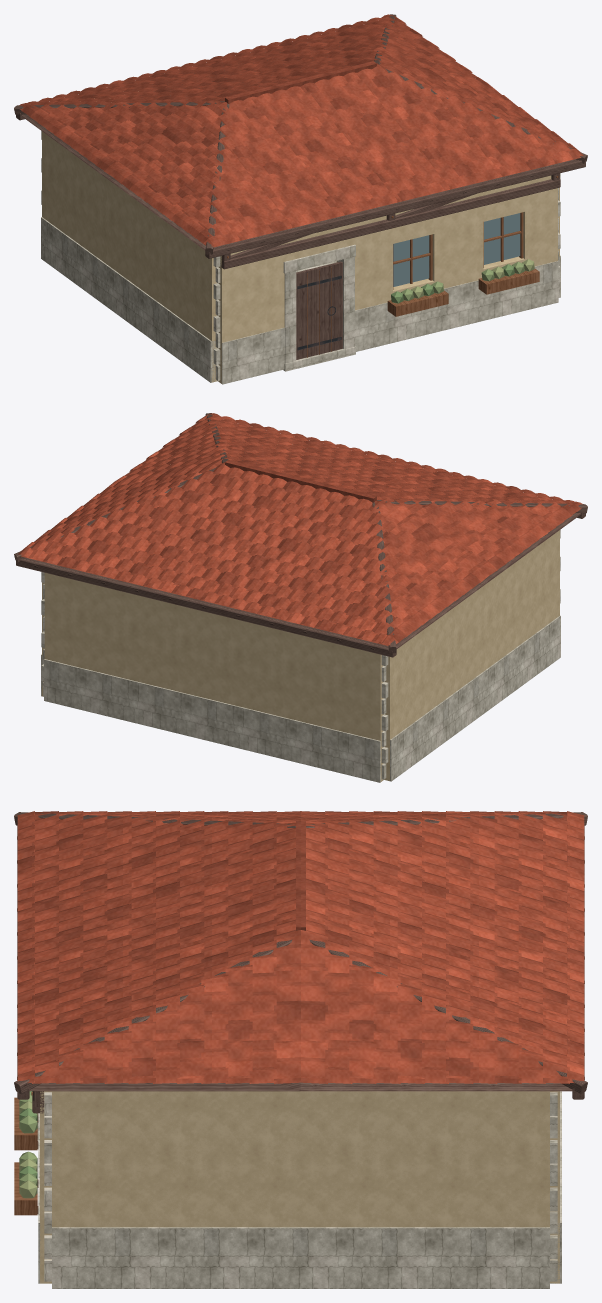
The model's file is B25_vivienda.glb.
The picture shows the model from 3 angles, top to bottom: view 1: azimuth 30°, elevation 25°; view 2: azimuth 150°, elevation 25°; view 3: azimuth 270°, elevation 25°; orthographic projection. The views are drawn at different scales.
Parts seen in each view (by area): view 1: AUR034_B25_clay_tiles, AUR034_B25_lower_masonry, AUR034_B25_projecting_stone_plinth, AUR034_B25_fascia-1, AUR034_B25_entry_leaf0, AUR034_B25_sill, AUR034_B25_window0_glazing, AUR034_B25_window1_glazing, AUR034_B25_roof_sheathing, AUR034_B25_entry_pier-1, AUR034_B25_entry_pier1, AUR034_B25_ridge (+7 smaller); view 2: AUR034_B25_clay_tiles, AUR034_B25_lower_masonry, AUR034_B25_projecting_stone_plinth, AUR034_B25_fascia1, AUR034_B25_dressed_corner_stones, AUR034_B25_roof_sheathing, AUR034_B25_ridge, AUR034_B25_hip_rafter_-11, AUR034_B25_hip_rafter_-1-1; view 3: AUR034_B25_clay_tiles, AUR034_B25_lower_masonry, AUR034_B25_projecting_stone_plinth, AUR034_B25_roof_sheathing, AUR034_B25_dressed_corner_stones, AUR034_B25_ridge, AUR034_B25_hip_rafter_1-1, AUR034_B25_hip_rafter_11, AUR034_B25_flower_box1, AUR034_B25_flower_box0, AUR034_B25_hip_rafter_-1-1, AUR034_B25_hip_rafter_-11.
Boxes of the visible parts, left/top/right/bottom form: AUR034_B25_clay_tiles: left=19, top=14, right=583, bottom=247; AUR034_B25_lower_masonry: left=42, top=91, right=559, bottom=383; AUR034_B25_projecting_stone_plinth: left=41, top=217, right=560, bottom=384; AUR034_B25_fascia-1: left=205, top=159, right=585, bottom=258; AUR034_B25_entry_leaf0: left=296, top=261, right=342, bottom=359; AUR034_B25_sill: left=220, top=179, right=560, bottom=269; AUR034_B25_window0_glazing: left=393, top=235, right=429, bottom=286; AUR034_B25_window1_glazing: left=484, top=213, right=520, bottom=264; AUR034_B25_roof_sheathing: left=20, top=37, right=431, bottom=250; AUR034_B25_entry_pier-1: left=284, top=271, right=296, bottom=363; AUR034_B25_entry_pier1: left=337, top=256, right=354, bottom=349; AUR034_B25_ridge: left=225, top=61, right=376, bottom=103; AUR034_B25_clay_tiles: left=18, top=413, right=582, bottom=646; AUR034_B25_lower_masonry: left=42, top=435, right=559, bottom=781; AUR034_B25_projecting_stone_plinth: left=41, top=615, right=560, bottom=782; AUR034_B25_fascia1: left=16, top=558, right=396, bottom=657; AUR034_B25_dressed_corner_stones: left=41, top=529, right=560, bottom=779; AUR034_B25_roof_sheathing: left=200, top=449, right=581, bottom=648; AUR034_B25_ridge: left=225, top=460, right=376, bottom=502; AUR034_B25_hip_rafter_-11: left=372, top=502, right=396, bottom=653; AUR034_B25_hip_rafter_-1-1: left=377, top=500, right=587, bottom=513; AUR034_B25_clay_tiles: left=17, top=811, right=584, bottom=1083; AUR034_B25_lower_masonry: left=40, top=1091, right=559, bottom=1283; AUR034_B25_projecting_stone_plinth: left=38, top=1091, right=561, bottom=1288; AUR034_B25_roof_sheathing: left=29, top=1082, right=572, bottom=1091; AUR034_B25_dressed_corner_stones: left=44, top=1092, right=557, bottom=1281; AUR034_B25_ridge: left=296, top=820, right=305, bottom=930; AUR034_B25_hip_rafter_1-1: left=14, top=939, right=292, bottom=1094; AUR034_B25_hip_rafter_11: left=309, top=939, right=587, bottom=1094; AUR034_B25_flower_box1: left=14, top=1162, right=37, bottom=1215; AUR034_B25_flower_box0: left=14, top=1097, right=37, bottom=1150; AUR034_B25_hip_rafter_-1-1: left=14, top=812, right=295, bottom=827; AUR034_B25_hip_rafter_-11: left=306, top=812, right=587, bottom=827.
Size of the model in its own units: 9.1 by 4.53 by 8.07.
Materials: 12 (8 with a texture image).
